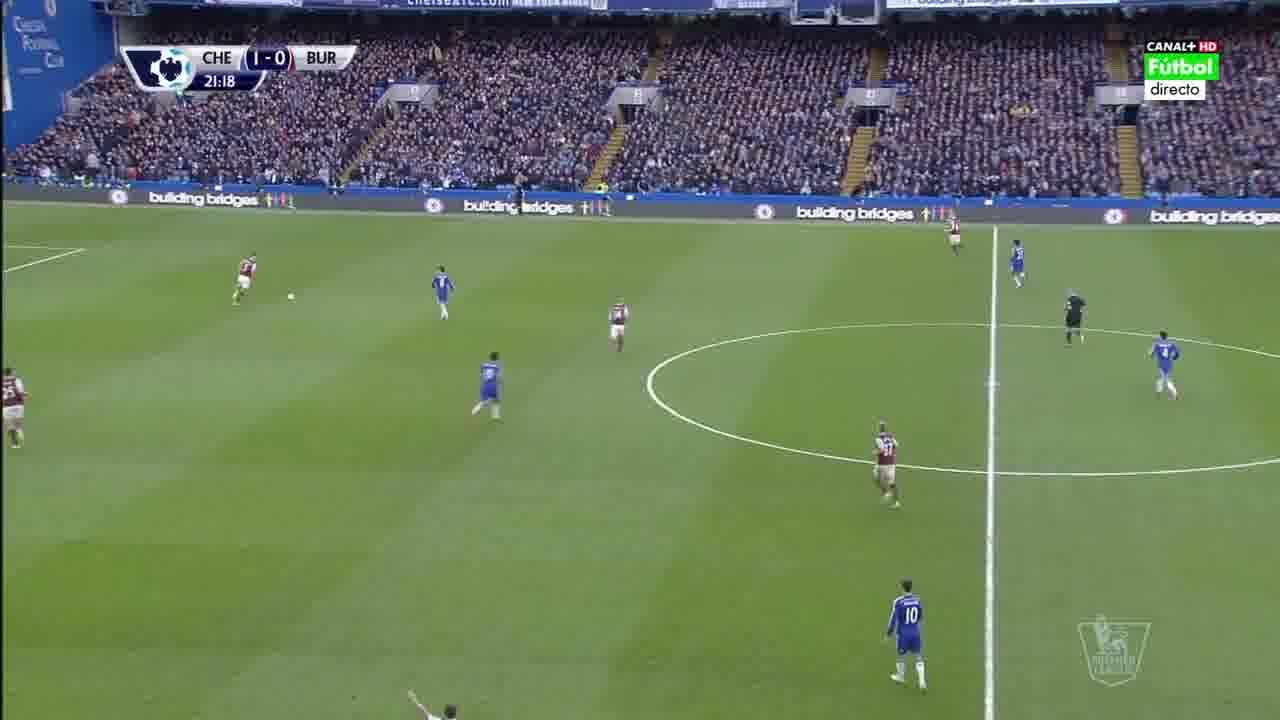football: (288, 293, 296, 301)
